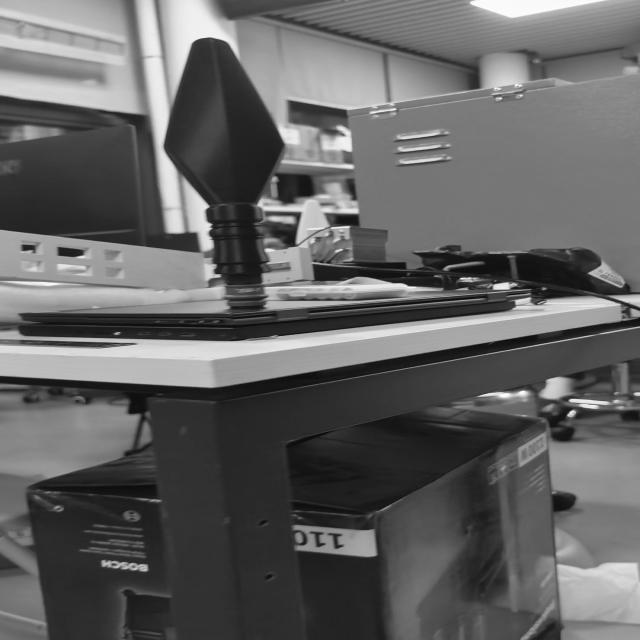base: (210, 279, 278, 316)
